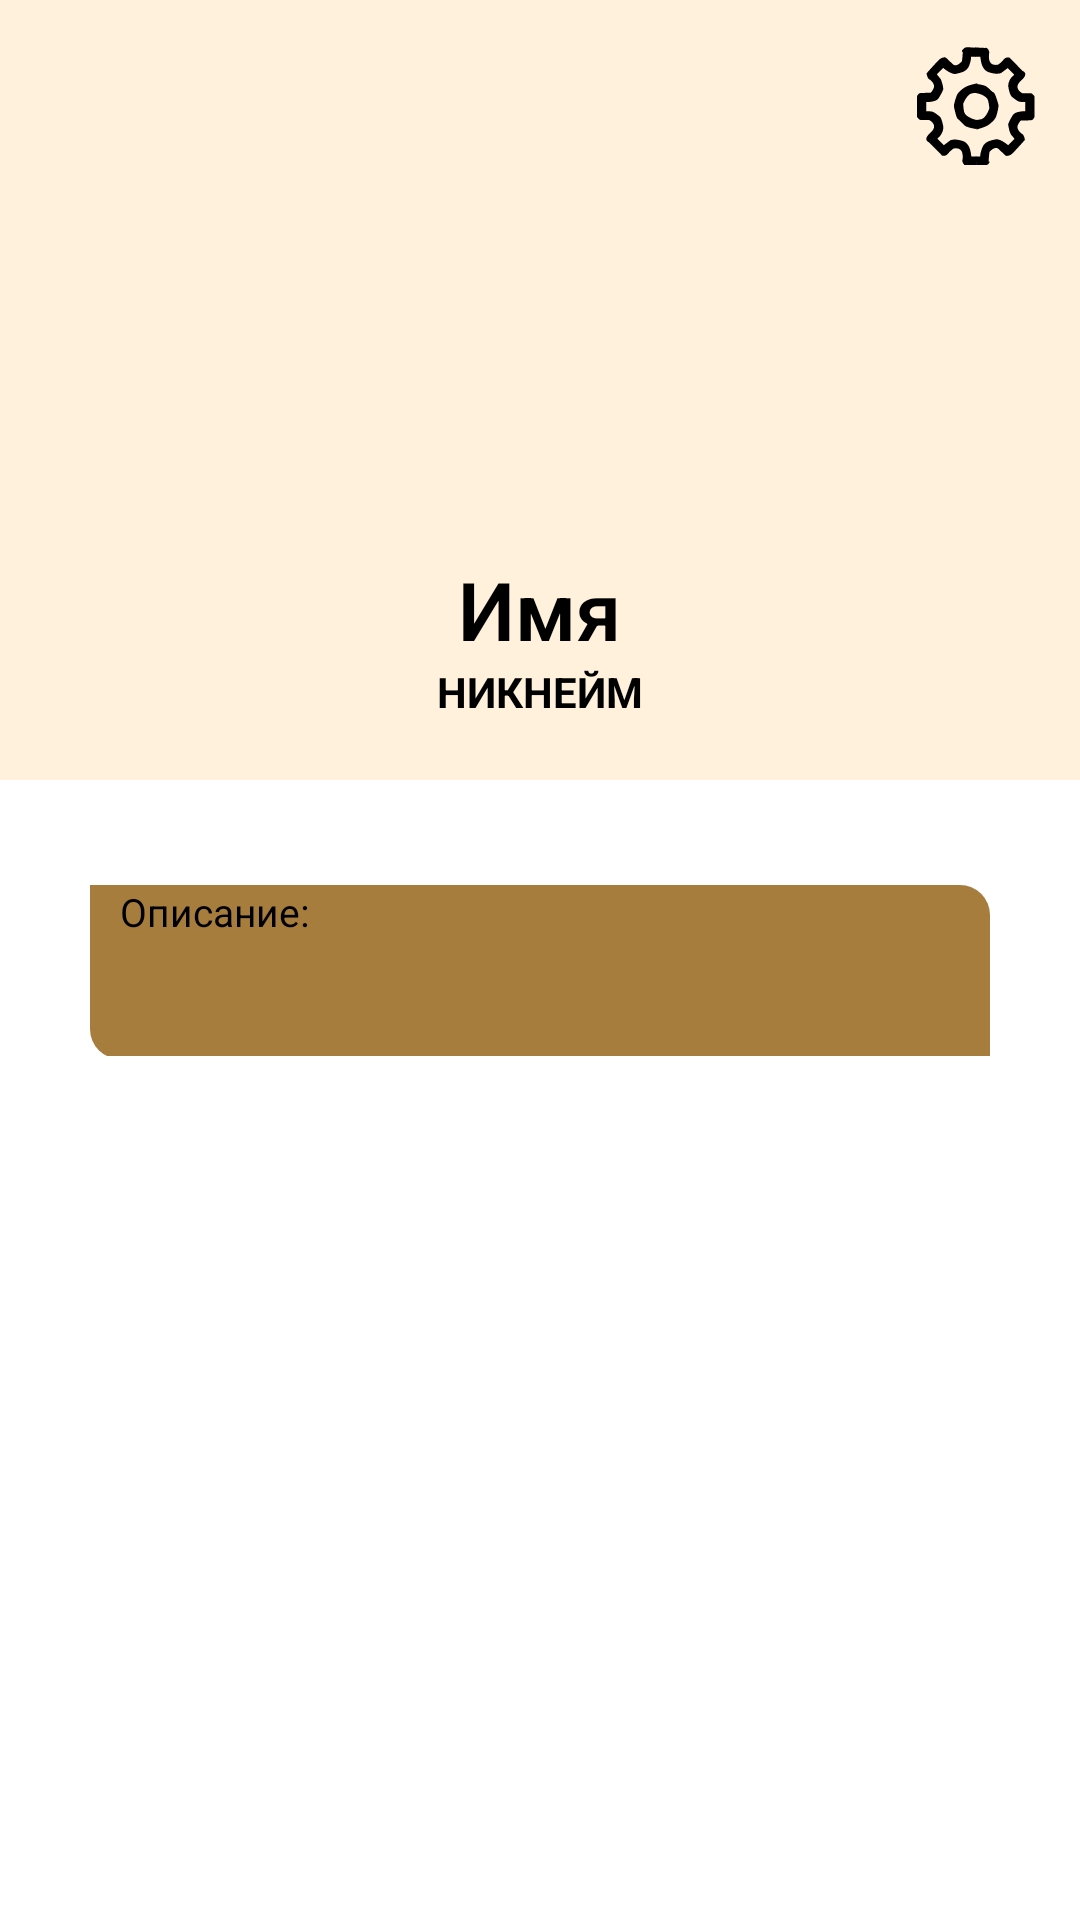

Where to tap for icons on this 1080 x 1920 app screen, as point (x, y):
settings: point (976, 106)
